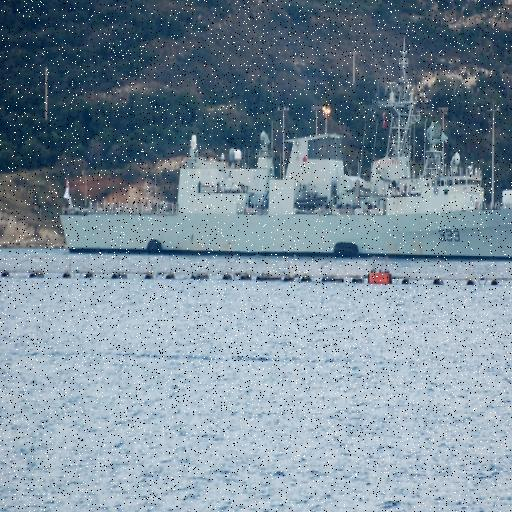Fragata: (54, 32, 512, 257)
